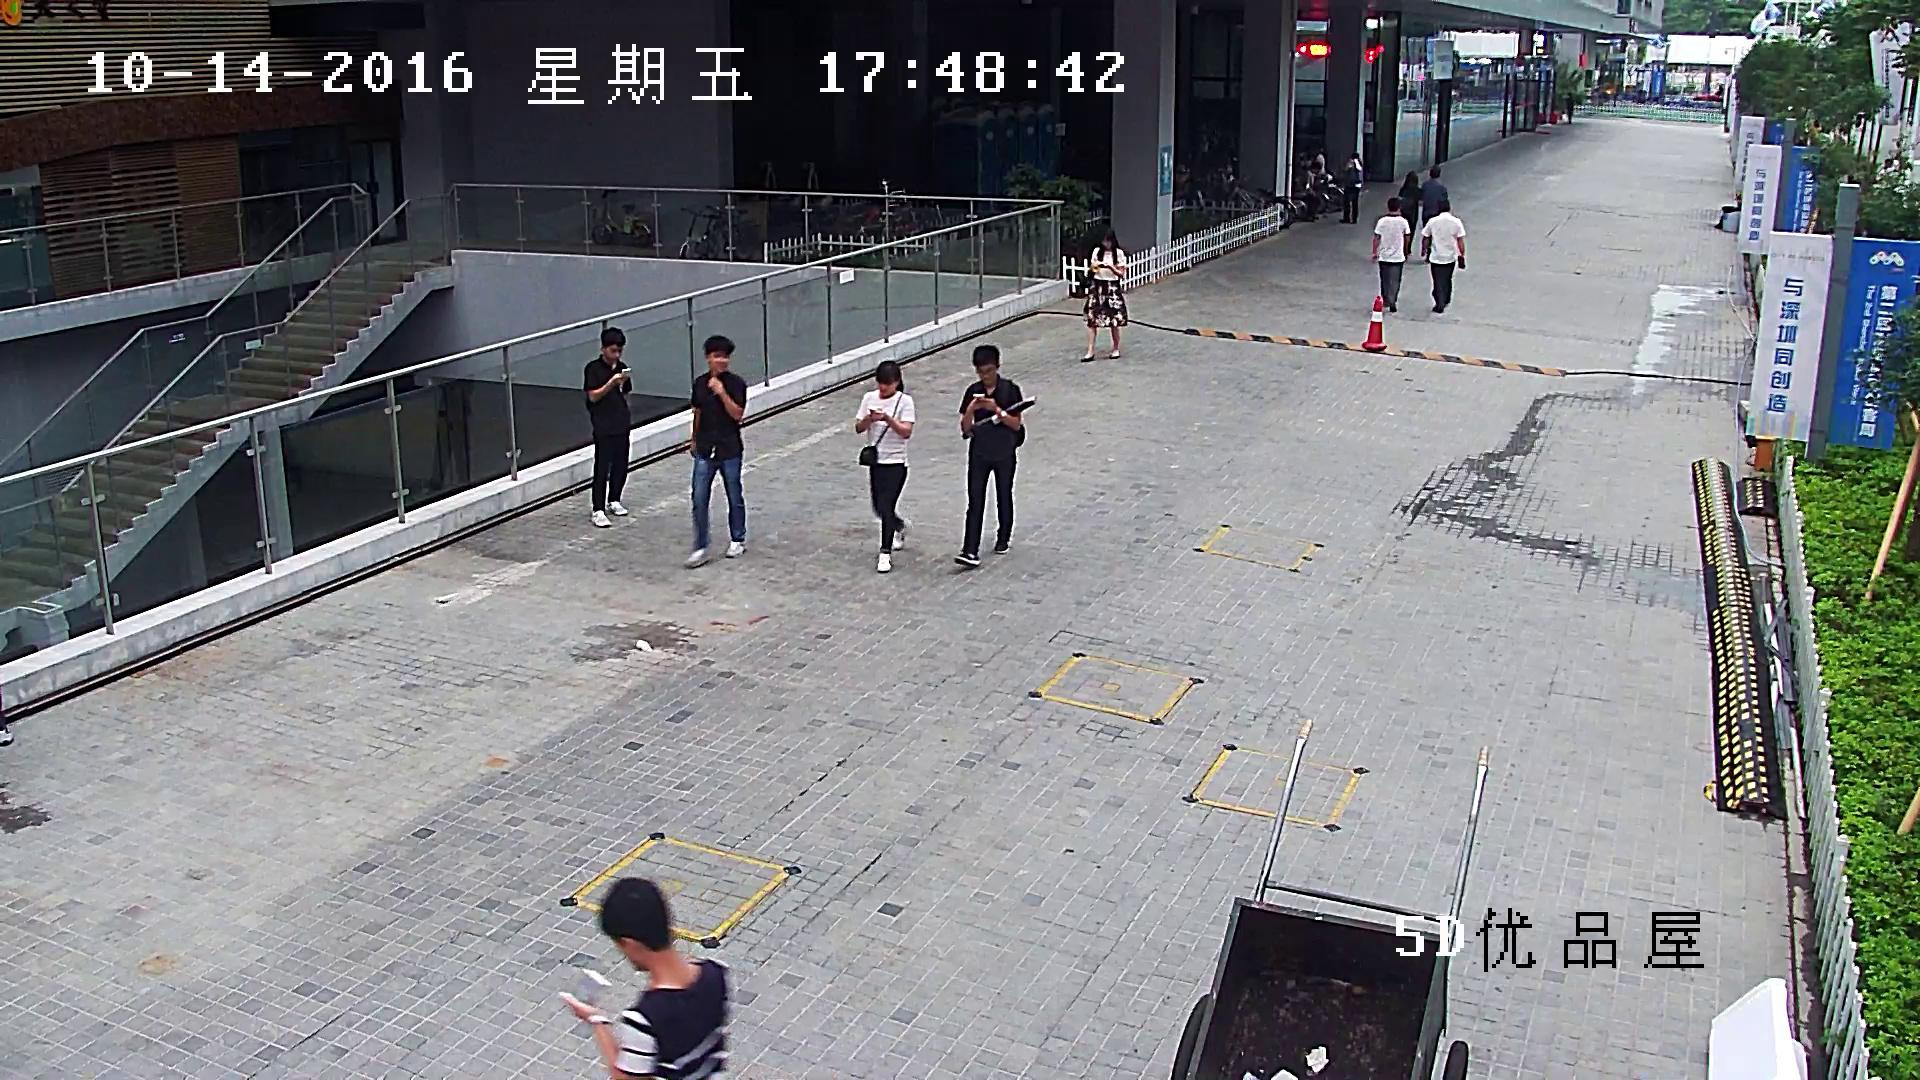person: (557, 876, 728, 1080), (954, 344, 1037, 565), (683, 334, 746, 567), (855, 360, 915, 572), (584, 326, 632, 526), (1079, 228, 1126, 361), (1421, 199, 1465, 313), (1372, 198, 1410, 311), (1421, 165, 1448, 264), (1399, 170, 1421, 259), (1340, 152, 1363, 224), (1567, 92, 1573, 124)
